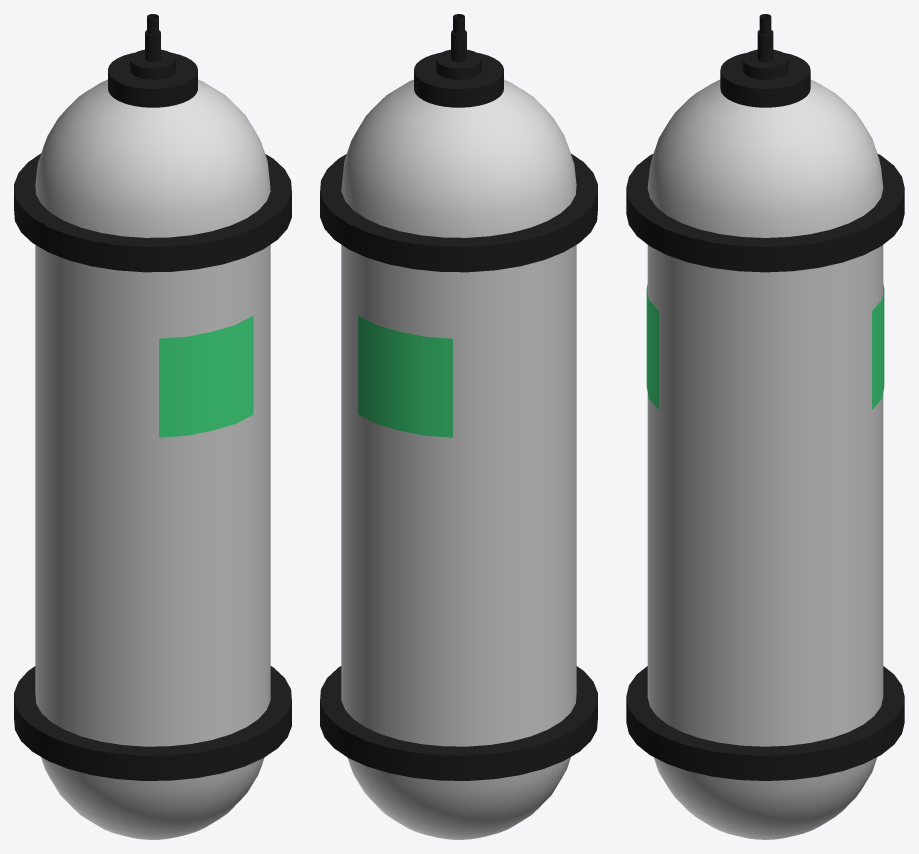
File: GhostMatterFuelCanister.fbx
The picture shows the model from 3 angles, left to right: view 1: azimuth 30°, elevation 25°; view 2: azimuth 150°, elevation 25°; view 3: azimuth 270°, elevation 25°; orthographic projection.
Parts seen in each view (by area): view 1: GhostMatterCanister; view 2: GhostMatterCanister; view 3: GhostMatterCanister.
Boxes of the visible parts, x1,y1,x2,y2 form: GhostMatterCanister: [14, 14, 291, 839]; GhostMatterCanister: [320, 14, 597, 839]; GhostMatterCanister: [626, 14, 904, 839].
Bounding box in the file's own units: 118 × 380 × 118.
